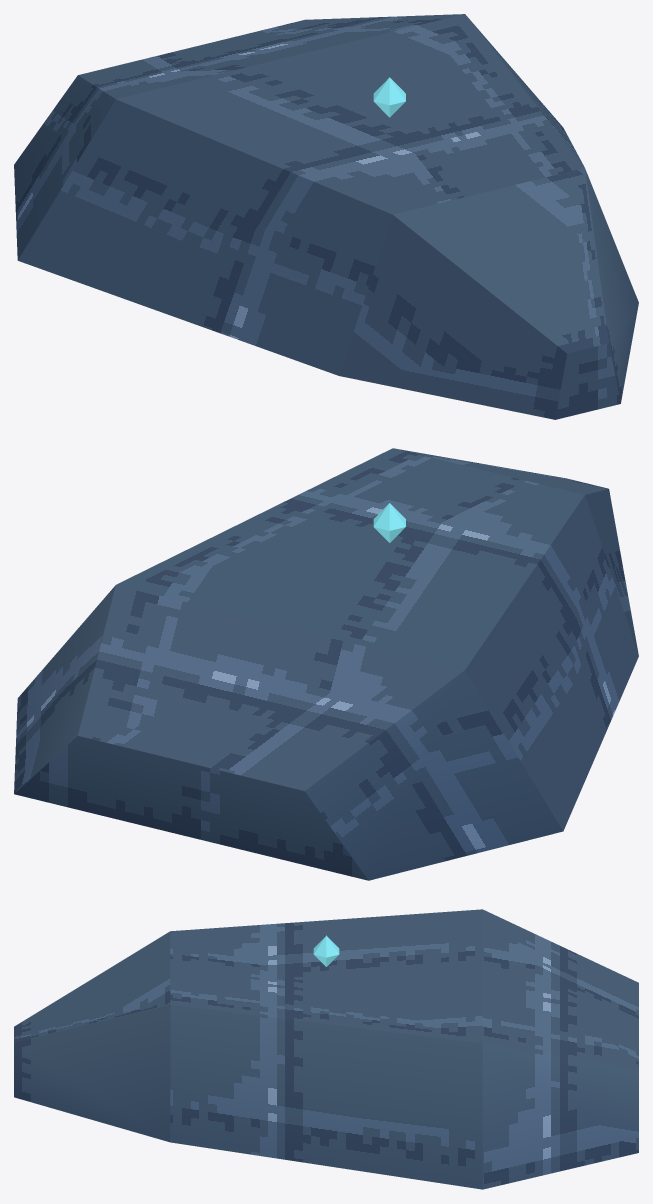
Rendered from cysky.courier.glb.
3 views of the same model, one above another, from view 1: azimuth 30°, elevation 25°; view 2: azimuth 150°, elevation 25°; view 3: azimuth 270°, elevation 25° (orthographic). The views are drawn at different scales.
Parts seen in each view (by area): view 1: kit_body, kit_beacons; view 2: kit_body, kit_beacons; view 3: kit_body, kit_beacons.
Boxes of the visible parts, x1,y1,x2,y2 form: kit_body: [14, 14, 638, 419]; kit_beacons: [373, 77, 405, 117]; kit_body: [14, 448, 638, 880]; kit_beacons: [373, 503, 405, 542]; kit_body: [14, 909, 638, 1189]; kit_beacons: [313, 935, 339, 966].
Bounding box in the file's own units: 2.7 × 0.896 × 3.4.
Materials: 2 (2 with a texture image).
